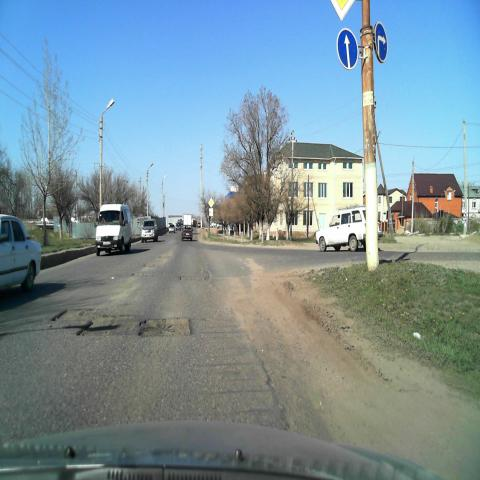4_1_1: (336, 27, 359, 71)
